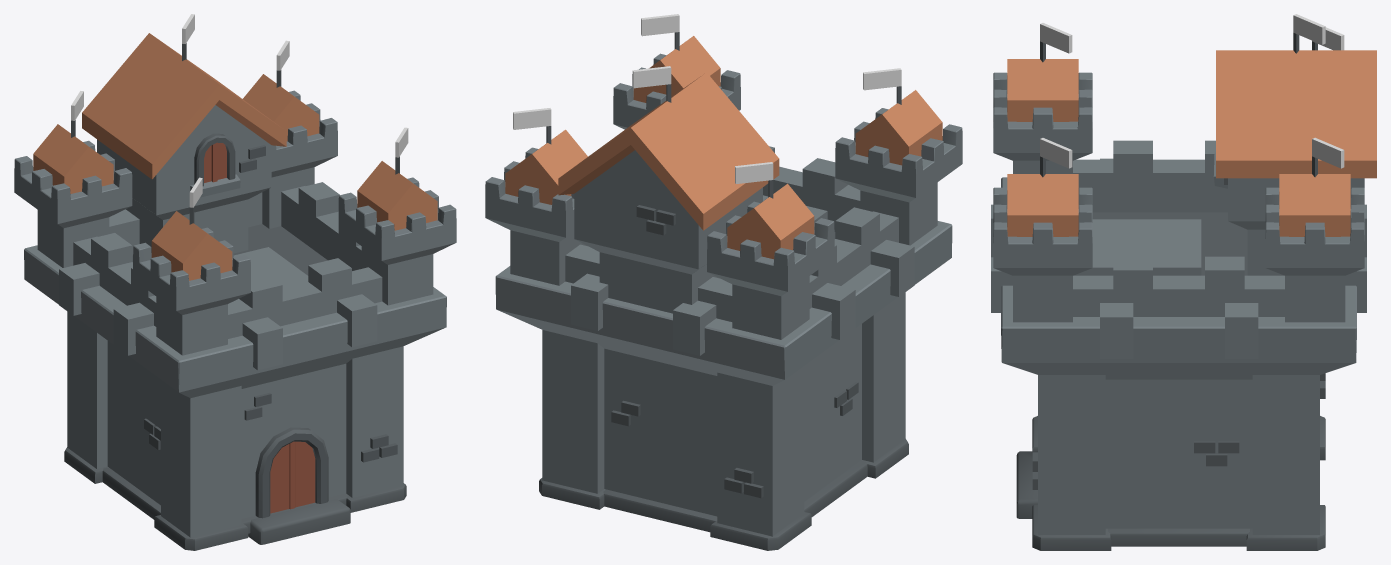
The model's file is castle.fbx.
The picture shows the model from 3 angles, left to right: view 1: azimuth 30°, elevation 25°; view 2: azimuth 150°, elevation 25°; view 3: azimuth 270°, elevation 25°; orthographic projection. The views are drawn at different scales.
Parts seen in each view (by area): view 1: castle; view 2: castle, castle.004, castle.001, castle.002, castle.005, castle.003; view 3: castle, castle.005, castle.001, castle.002, castle.004.
Boxes of the visible parts, x1,y1,x2,y2 form: castle: (14, 33, 456, 550); castle: (485, 32, 962, 550); castle.004: (632, 66, 671, 88); castle.001: (863, 68, 901, 90); castle.002: (641, 14, 679, 36); castle.005: (513, 108, 551, 129); castle.003: (735, 162, 773, 183); castle: (991, 33, 1376, 550); castle.005: (1312, 137, 1344, 168); castle.001: (1040, 23, 1072, 53); castle.002: (1040, 138, 1072, 168); castle.004: (1293, 14, 1325, 44).
Bounding box in the file's own units: 180 × 253 × 185.
